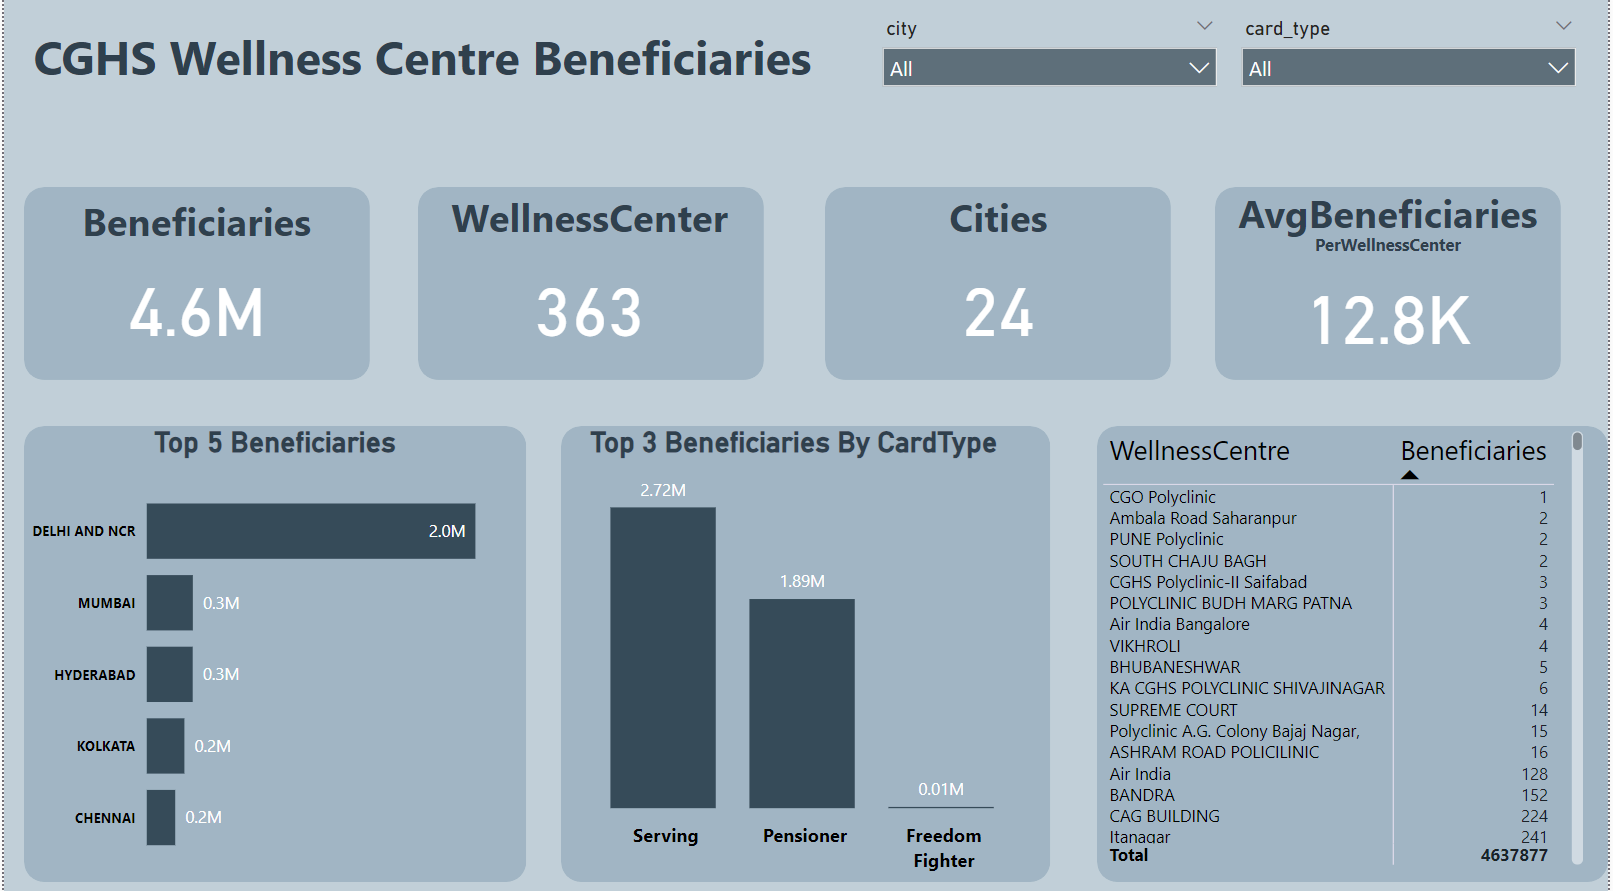

This screenshot's page, from the dashboard's own definition file:
{"tool":"powerbi","page":{"name":"Dashboard","canvas":[1280,720],"ordinal":0},"visuals":[{"type":"shape","box":[16.1,154.4,276.2,154.1],"z":0,"group":"g1"},{"type":"shape","box":[16.1,344.5,400.9,364.1],"z":0},{"type":"shape","box":[330.3,154.4,276.2,154.1],"z":1000,"group":"g1"},{"type":"shape","box":[444.7,344.5,390.6,364.1],"z":1000},{"type":"shape","box":[655.6,154.4,276.2,154.1],"z":2000,"group":"g1"},{"type":"shape","box":[872.2,344.5,407.8,364.1],"z":2000},{"type":"shape","box":[966.8,154.4,276.2,154.1],"z":3000,"group":"g1"},{"type":"group","id":"g1","title":"Group 1","box":[16.1,154.4,1227,153.2],"z":3000},{"type":"card","title":"Beneficiaries","fields":{"Values":["Meas.TotalBeneficiariesByWellnessCenter"]},"box":[25.1,160.4,258.2,141.1],"z":4000,"group":"g1"},{"type":"clusteredBarChart","title":"Top 5 Beneficiaries","fields":{"Category":["Wellness_Centre_Beneficiaries.city"],"Y":["Meas.TotalBeneficiariesByCity"]},"box":[16.1,344.5,400.9,364.1],"z":4000},{"type":"card","title":"WellnessCenter","fields":{"Values":["Meas.WellnessCenters"]},"box":[341.4,157.4,253.2,148.1],"z":5000,"group":"g1"},{"type":"columnChart","title":"Top 3 Beneficiaries By CardType ","fields":{"Category":["Wellness_Centre_Beneficiaries.card_type"],"Y":["Meas.ByCardType"]},"box":[417.1,344.5,427.4,364.1],"z":5000},{"type":"card","title":"Cities","fields":{"Values":["Meas.UniqueCities"]},"box":[689.6,157.4,208.2,147.1],"z":6000,"group":"g1"},{"type":"pivotTable","fields":{"Values":["Meas.TotalBeneficiariesByWellnessCenter"],"Rows":["Wellness_Centre_Beneficiaries.wellnessCentreName"]},"box":[872.5,344.3,392.9,356],"z":6000},{"type":"card","title":"AvgBeneficiaries","fields":{"Values":["Meas.AverageBeneficiariesPerWellnessCenter"]},"box":[966.8,154.4,276.2,145.1],"z":7000,"group":"g1"},{"type":"slicer","fields":{"Values":["Wellness_Centre_Beneficiaries.card_type"]},"box":[978.1,12.7,286.9,79.5],"z":7000},{"type":"slicer","fields":{"Values":["Wellness_Centre_Beneficiaries.city"]},"box":[691.3,12.7,286.9,79.5],"z":8000},{"type":"textbox","box":[12,20,644,72],"z":9000}]}

Visuals, with their boxes in screenshot pixels (x1, y1, x2, y2), scaled from the page's 1280x720 canvas onto the 1613x891 screenshot:
shape: pyautogui.locateOnScreen(20, 191, 368, 382)
shape: pyautogui.locateOnScreen(20, 426, 525, 877)
shape: pyautogui.locateOnScreen(416, 191, 764, 382)
shape: pyautogui.locateOnScreen(560, 426, 1053, 877)
shape: pyautogui.locateOnScreen(826, 191, 1174, 382)
shape: pyautogui.locateOnScreen(1099, 426, 1612, 877)
shape: pyautogui.locateOnScreen(1218, 191, 1566, 382)
"Group 1" group: pyautogui.locateOnScreen(20, 191, 1567, 381)
"Beneficiaries" card: pyautogui.locateOnScreen(32, 198, 357, 373)
"Top 5 Beneficiaries" clusteredBarChart: pyautogui.locateOnScreen(20, 426, 525, 877)
"WellnessCenter" card: pyautogui.locateOnScreen(430, 195, 749, 378)
"Top 3 Beneficiaries By CardType " columnChart: pyautogui.locateOnScreen(526, 426, 1064, 877)
"Cities" card: pyautogui.locateOnScreen(869, 195, 1131, 377)
pivotTable - Meas.TotalBeneficiariesByWellnessCenter x Wellness_Centre_Beneficiaries.wellnessCentreName: pyautogui.locateOnScreen(1099, 426, 1595, 867)
"AvgBeneficiaries" card: pyautogui.locateOnScreen(1218, 191, 1566, 371)
slicer - Wellness_Centre_Beneficiaries.card_type: pyautogui.locateOnScreen(1233, 16, 1594, 114)
slicer - Wellness_Centre_Beneficiaries.city: pyautogui.locateOnScreen(871, 16, 1233, 114)
textbox: pyautogui.locateOnScreen(15, 25, 827, 114)
